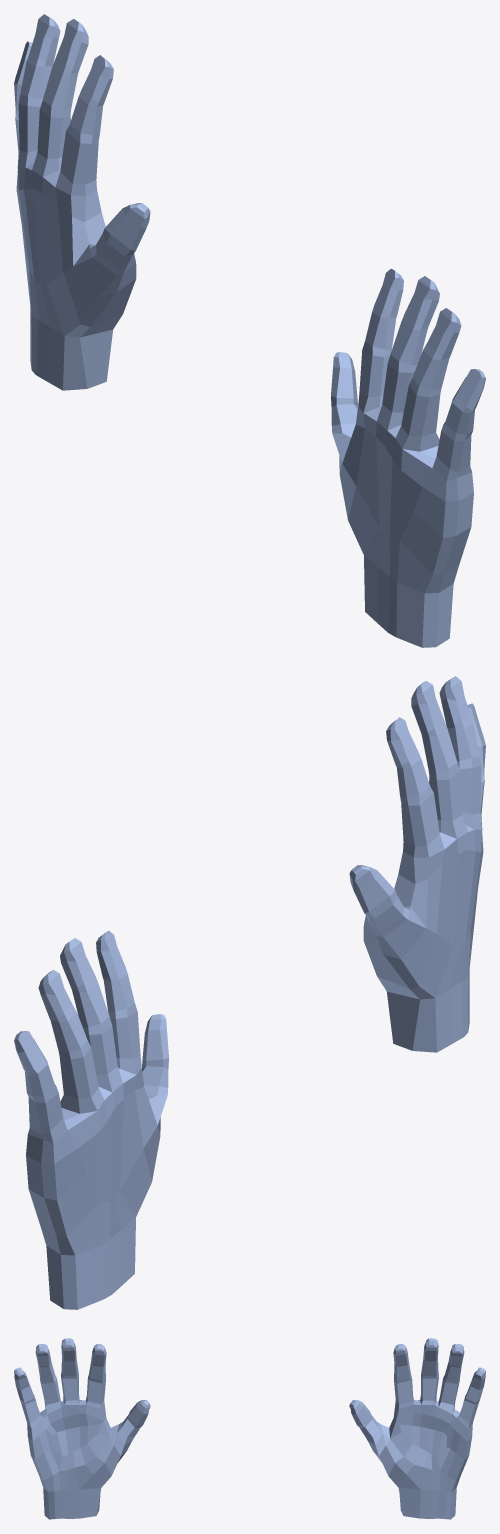
The model's file is main.fbx.
The picture shows the model from 3 angles, top to bottom: view 1: azimuth 30°, elevation 25°; view 2: azimuth 150°, elevation 25°; view 3: azimuth 270°, elevation 25°; orthographic projection. The views are drawn at different scales.
Parts seen in each view (by area): view 1: Main_droite, Main_gauche; view 2: Main_gauche, Main_droite; view 3: Main_droite, Main_gauche.
Boxes of the visible parts, x1,y1,x2,y2 form: Main_droite: (331, 268, 485, 647); Main_gauche: (14, 14, 150, 390); Main_gauche: (14, 930, 168, 1309); Main_droite: (349, 676, 485, 1052); Main_droite: (14, 1338, 150, 1519); Main_gauche: (349, 1338, 485, 1519).
Bounding box in the file's own units: 3.82 × 22.61 × 53.52.
